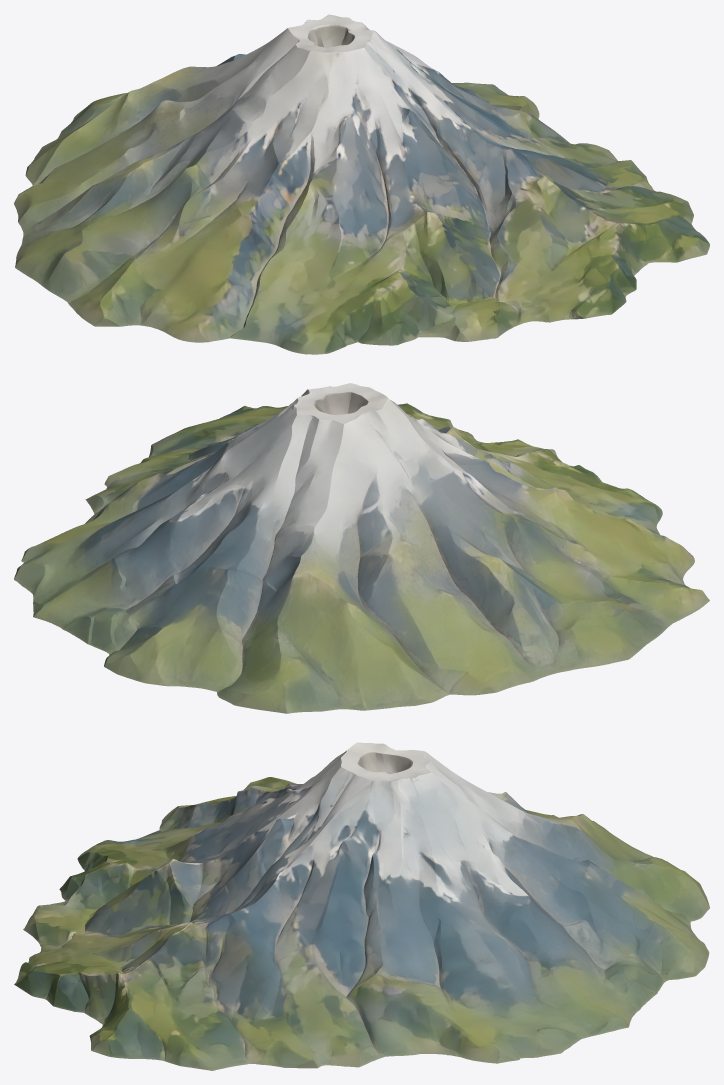
The model's file is source.glb.
The picture shows the model from 3 angles, top to bottom: view 1: azimuth 30°, elevation 25°; view 2: azimuth 150°, elevation 25°; view 3: azimuth 270°, elevation 25°; orthographic projection.
Parts seen in each view (by area): view 1: model; view 2: model; view 3: model.
Boxes of the visible parts, x1,y1,x2,y2 form: model: [14, 14, 709, 354]; model: [14, 383, 709, 713]; model: [14, 742, 709, 1070].
Size of the model in its own units: 1.84 by 0.5318 by 1.9.
Materials: 1 (1 with a texture image).
